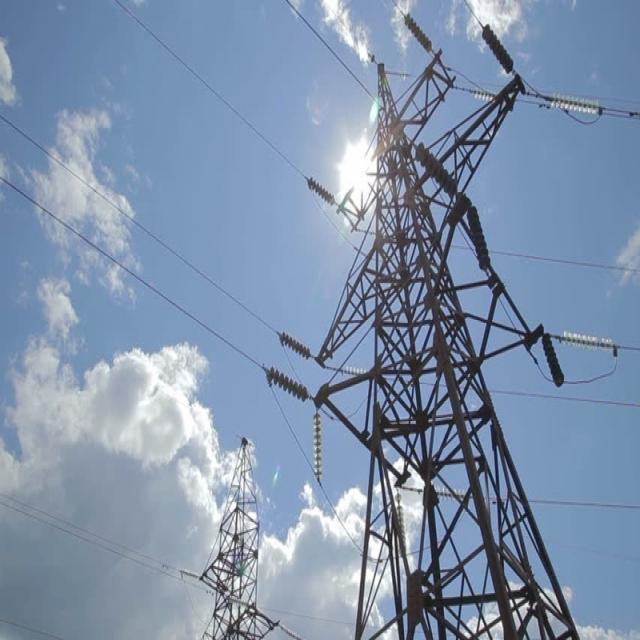non-critical vegetation: (280, 12, 608, 624), (188, 427, 274, 630)
